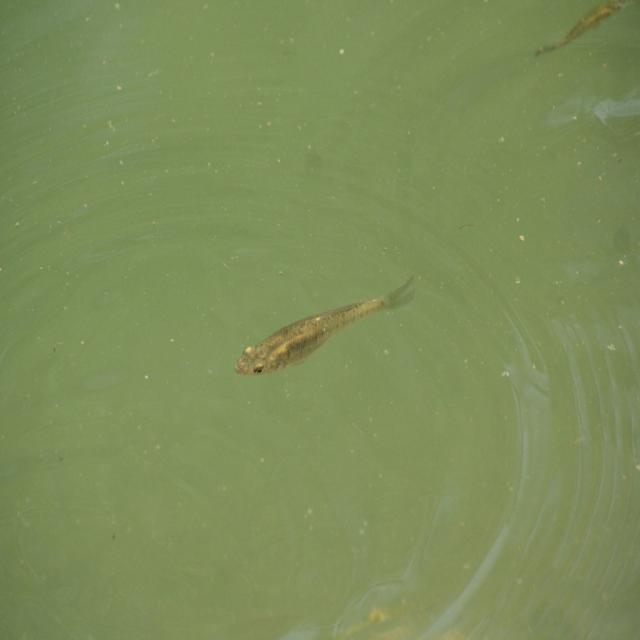Sivrisinek Baligi: (233, 272, 423, 380), (532, 0, 629, 58)
